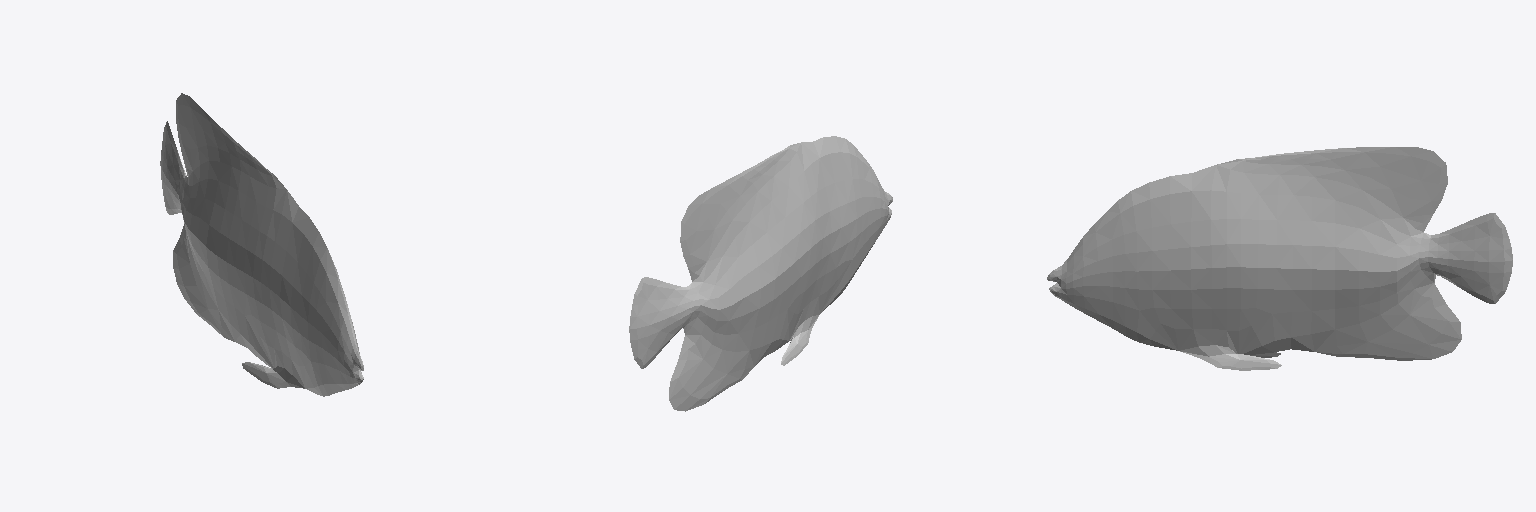
Rendered from reeffish17.obj.
3 renders of one model, left to right at view 1: azimuth 30°, elevation 25°; view 2: azimuth 150°, elevation 25°; view 3: azimuth 270°, elevation 25°, orthographic.
Visible parts, largest first — view 1: Plane; view 2: Plane; view 3: Plane.
Part boxes in pixels (left/top/right/bottom): Plane: left=160, top=93, right=363, bottom=396; Plane: left=629, top=136, right=892, bottom=411; Plane: left=1047, top=147, right=1512, bottom=370.
Bounding box in the file's own units: 0.8489 × 3.75 × 7.21.